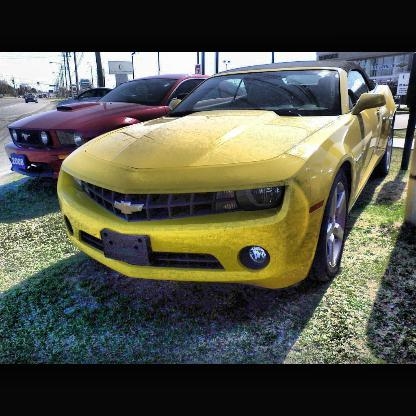Chevrolet Camaro Convertible 2012: (46, 69, 399, 292)
